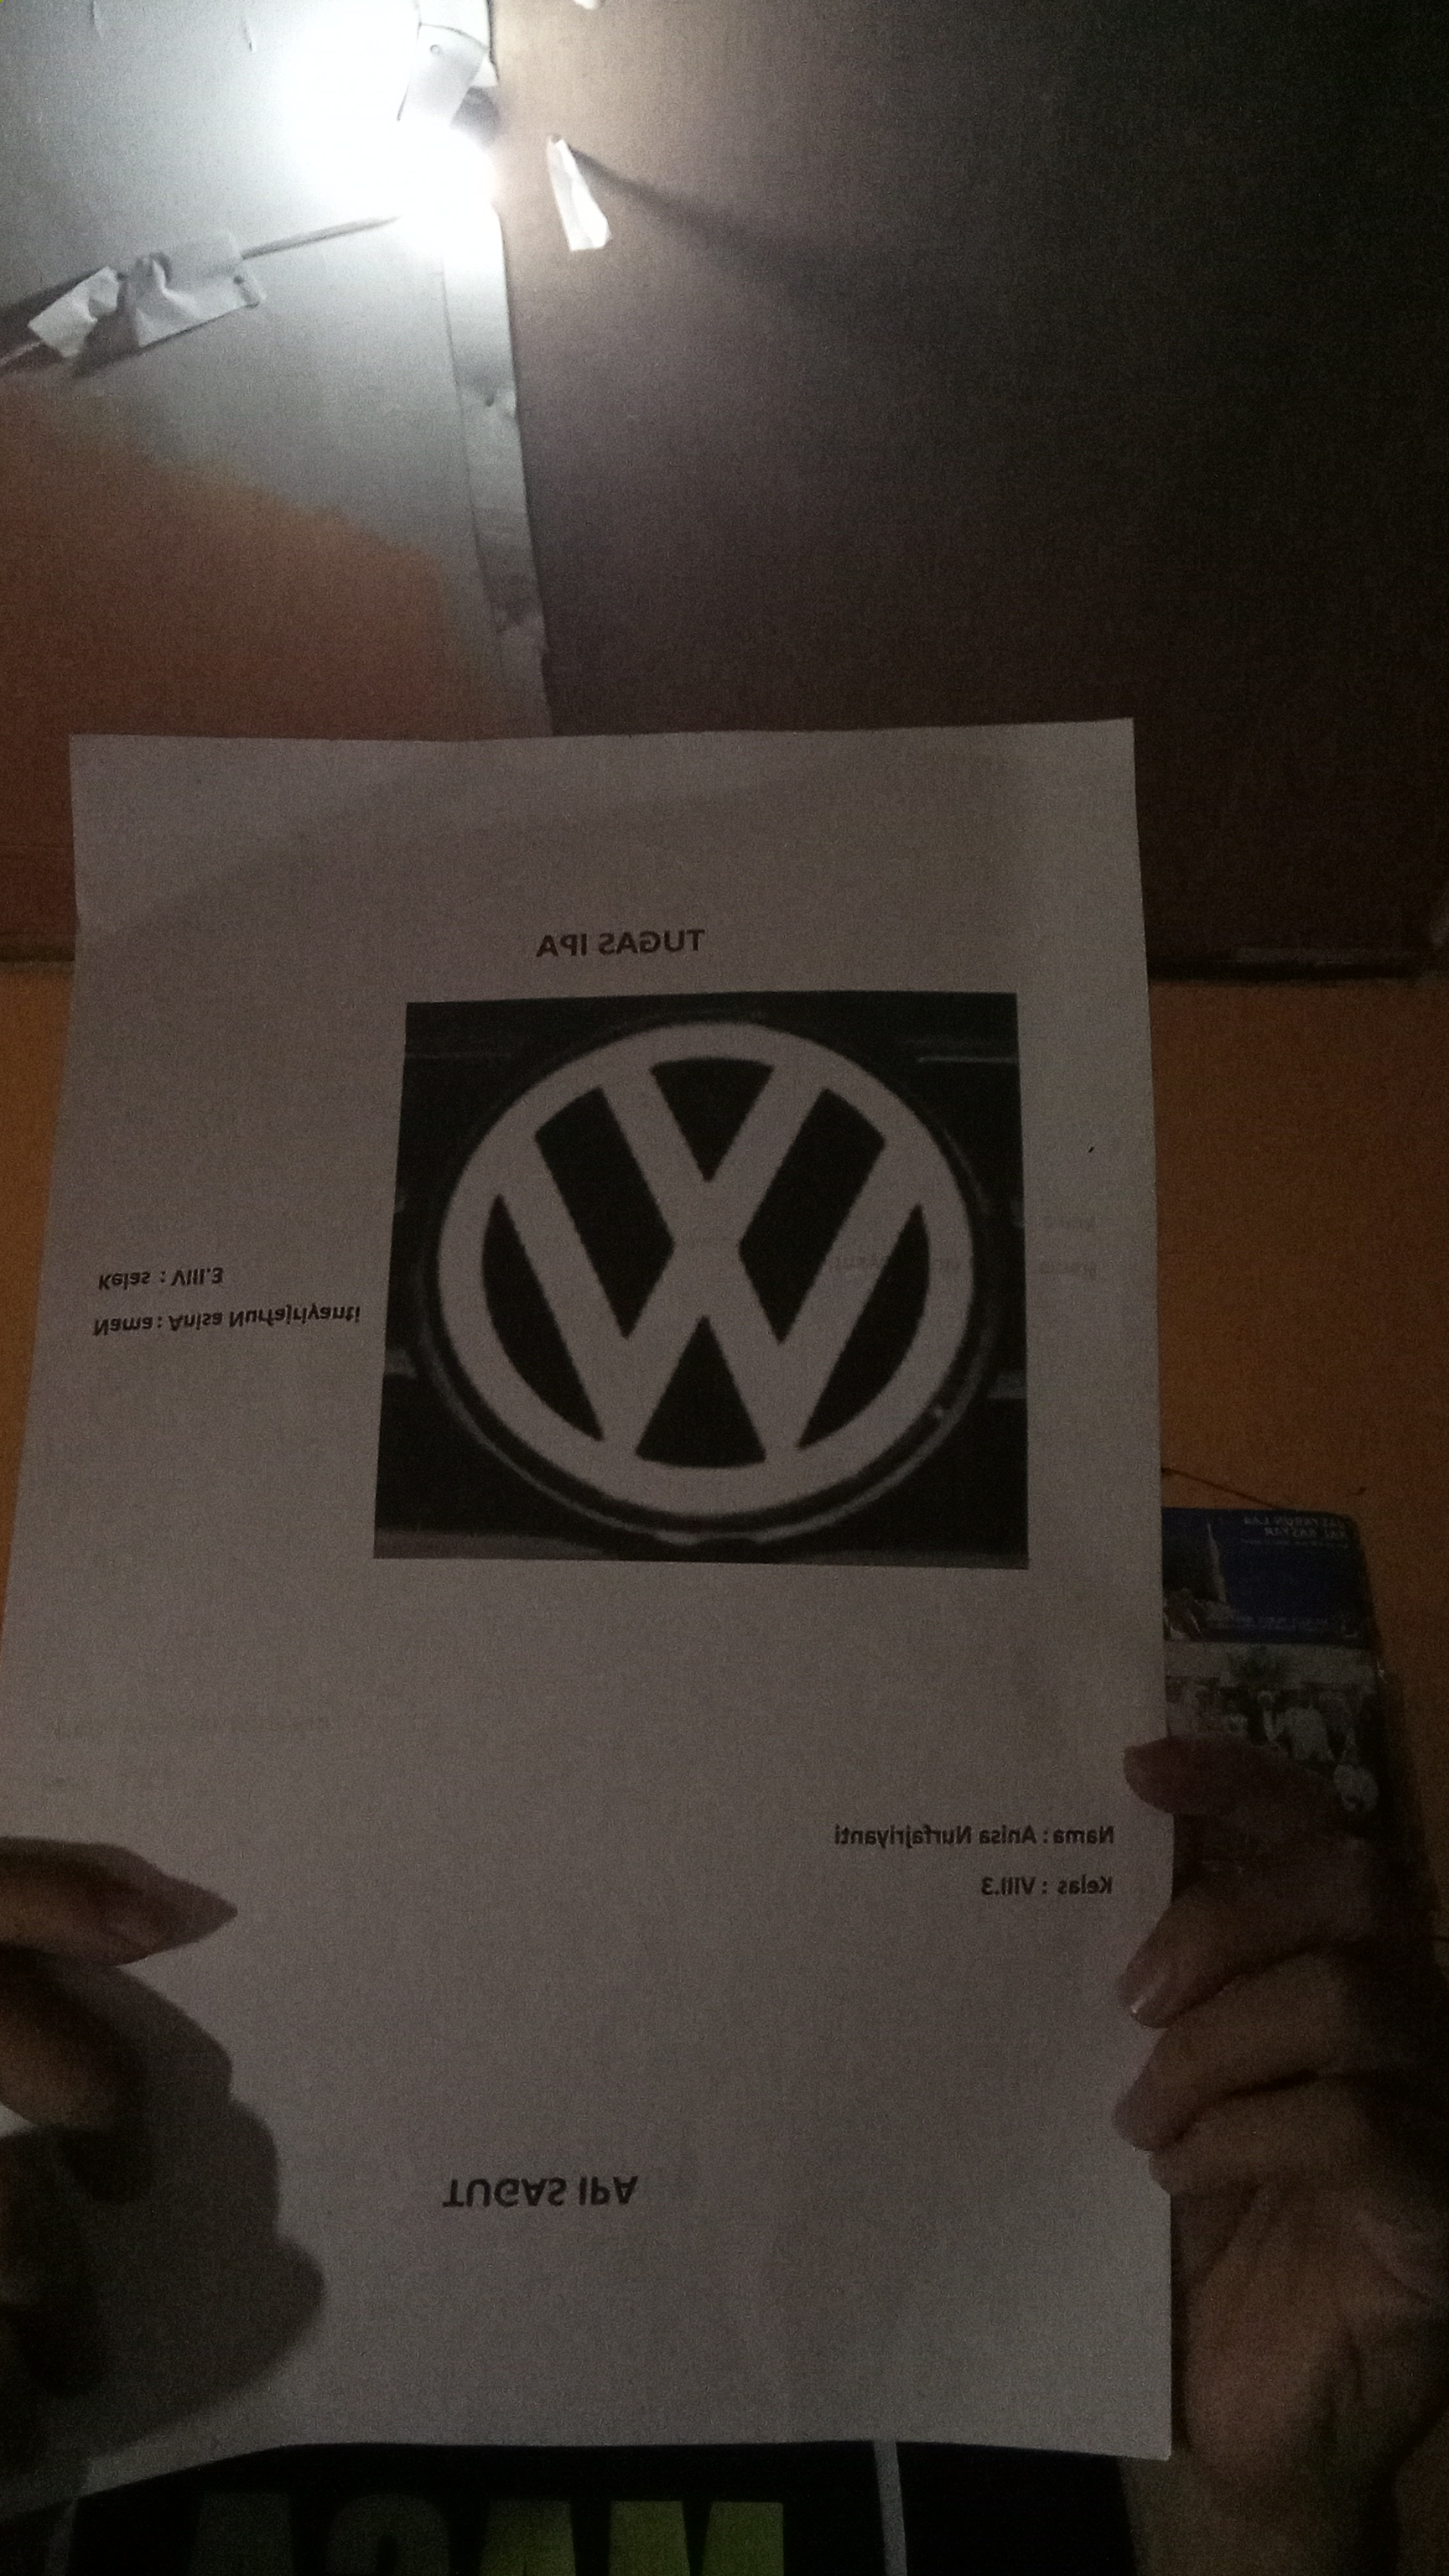Volkswagen: (403, 1001, 1010, 1559)
